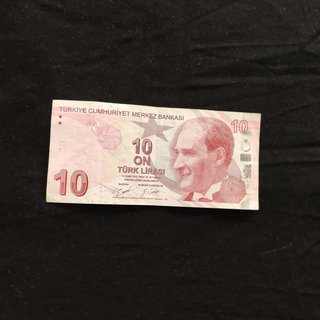10TLFront: (44, 98, 262, 212)
